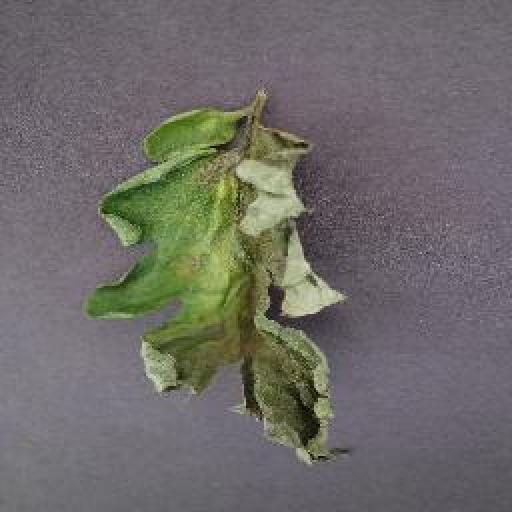Late Blight: (84, 100, 359, 471)
